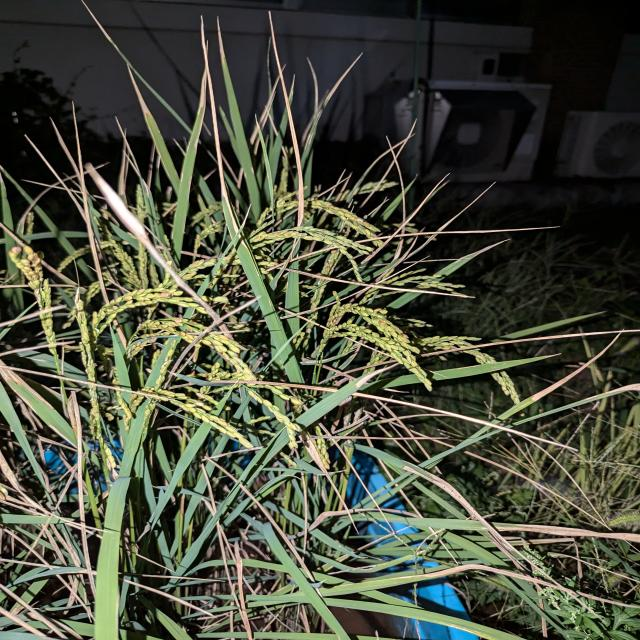9month_ine: (131, 54, 479, 591)
